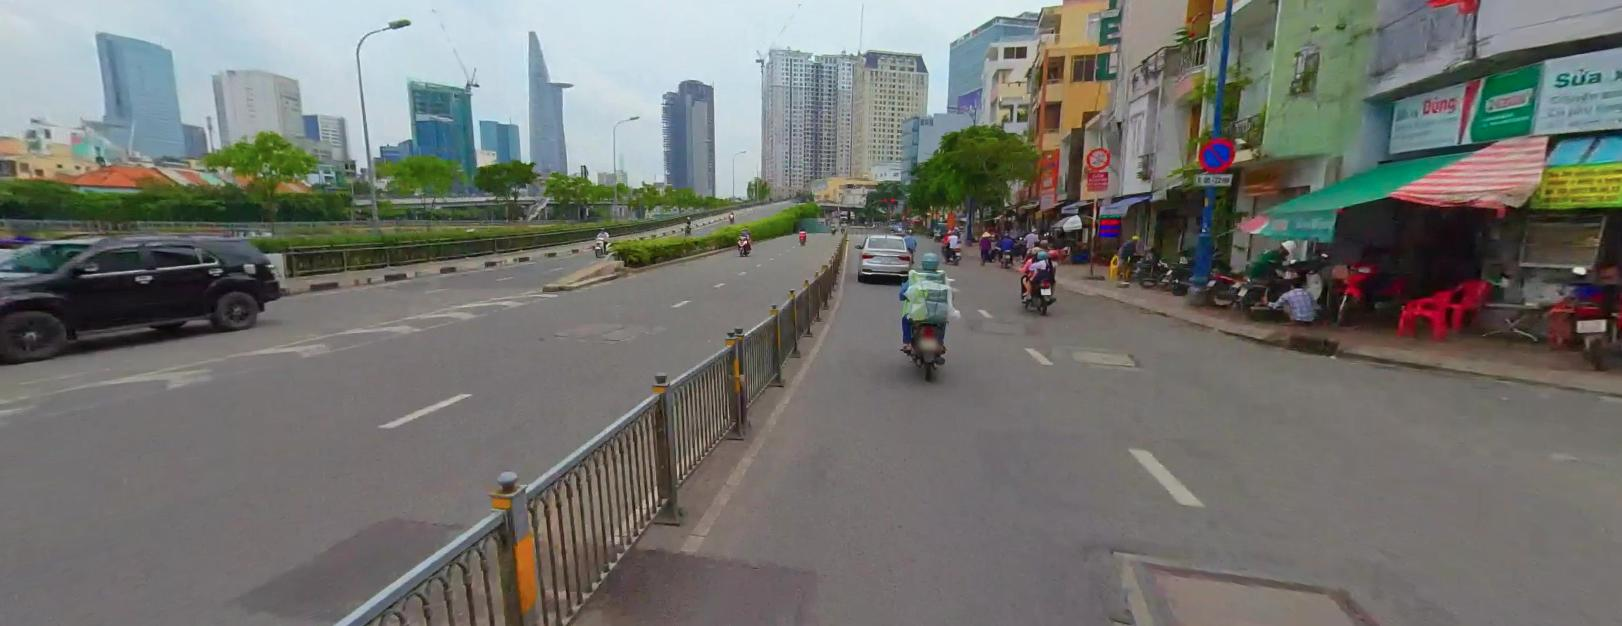Cam con lai: (1086, 146, 1111, 169)
Cam dung va do: (1198, 137, 1234, 171)
